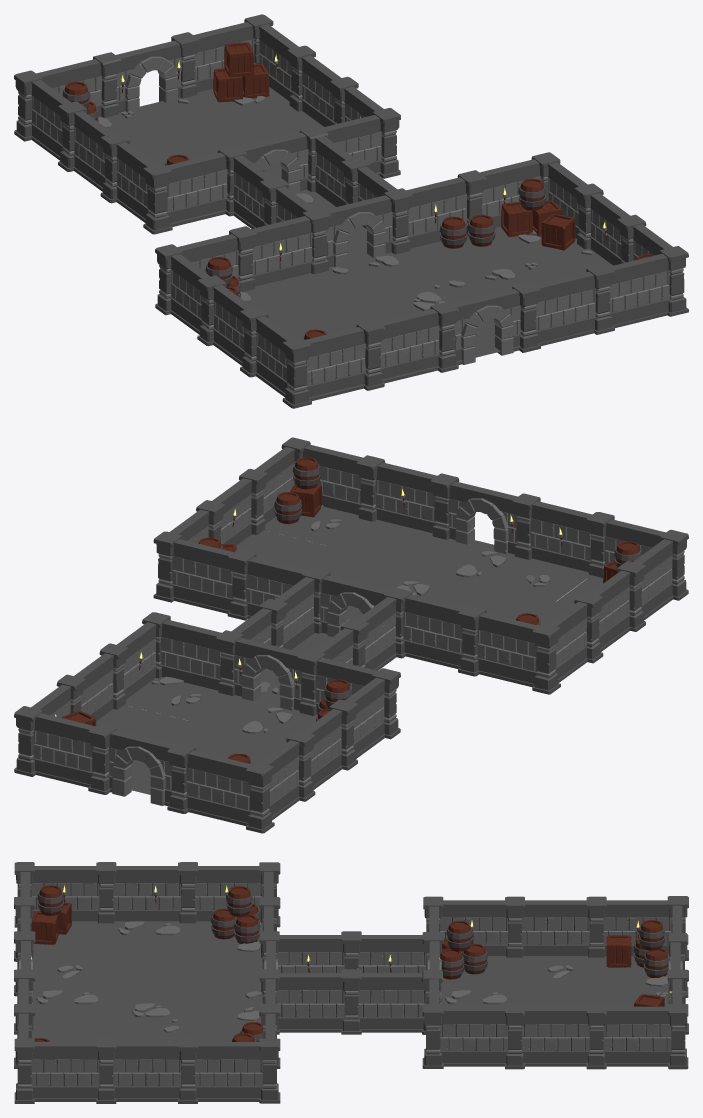
Rendered from Dungeon0.fbx.
3 views of the same model, one above another, from view 1: azimuth 30°, elevation 25°; view 2: azimuth 150°, elevation 25°; view 3: azimuth 270°, elevation 25° (orthographic). The views are drawn at different scales.
Parts seen in each view (by area): view 1: Pillar3.030, Pillar3.029, Pillar3.028, Pillar3.027, Pillar3.001, Pillar3.011, Kapı1, Pillar3.018, Pillar3.026, Pillar3.006, Kapı2.002, Kapı2.001 (+44 smaller); view 2: Pillar3.016, Pillar3.020, Pillar3.002, Pillar3.019, Pillar3.001, Pillar3.028, Kapı1, Pillar3.030, Kapı2, Pillar3.009, Pillar3.029, Kapı2.002 (+35 smaller); view 3: Pillar3.004, Pillar3.007, Pillar3.025, Pillar3.008, Pillar3.024, Pillar3.023, Pillar3.012, Pillar3.014, Pillar3.022, Pillar3.017, Pillar3.021, Pillar3.015 (+48 smaller).
Part boxes in pixels (x1=…): Pillar3.030: x1=512, y1=271, x2=596, y2=352; Pillar3.029: x1=586, y1=253, x2=670, y2=334; Pillar3.028: x1=378, y1=302, x2=458, y2=383; Pillar3.027: x1=305, y1=320, x2=384, y2=400; Pillar3.001: x1=229, y1=188, x2=507, y2=291; Pillar3.011: x1=166, y1=145, x2=246, y2=226; Kapı1: x1=93, y1=40, x2=182, y2=117; Pillar3.018: x1=406, y1=170, x2=486, y2=248; Pillar3.026: x1=255, y1=316, x2=311, y2=408; Pillar3.006: x1=116, y1=142, x2=172, y2=234; Kapı2.002: x1=452, y1=289, x2=521, y2=364; Kapı2.001: x1=324, y1=195, x2=393, y2=267; Pillar3.016: x1=186, y1=750, x2=274, y2=833; Pillar3.020: x1=477, y1=612, x2=560, y2=694; Pillar3.002: x1=33, y1=713, x2=116, y2=794; Pillar3.019: x1=153, y1=531, x2=233, y2=613; Pillar3.001: x1=402, y1=594, x2=486, y2=676; Pillar3.028: x1=512, y1=493, x2=592, y2=571; Kapı1: x1=108, y1=730, x2=196, y2=813; Pillar3.030: x1=375, y1=462, x2=459, y2=539; Kapı2: x1=215, y1=630, x2=302, y2=710; Pillar3.009: x1=142, y1=612, x2=221, y2=690; Pillar3.029: x1=303, y1=444, x2=385, y2=521; Kapı2.002: x1=448, y1=481, x2=517, y2=554; Pillar3.004: x1=603, y1=1004, x2=688, y2=1069; Pillar3.007: x1=522, y1=1004, x2=606, y2=1069; Pillar3.025: x1=14, y1=1038, x2=99, y2=1103; Pillar3.008: x1=440, y1=1004, x2=524, y2=1069; Pillar3.024: x1=96, y1=1038, x2=181, y2=1103; Pillar3.023: x1=178, y1=1038, x2=262, y2=1103; Pillar3.012: x1=341, y1=969, x2=425, y2=1034; Pillar3.014: x1=505, y1=896, x2=589, y2=957; Pillar3.022: x1=96, y1=862, x2=181, y2=923; Pillar3.017: x1=259, y1=969, x2=344, y2=1034; Pillar3.021: x1=62, y1=862, x2=262, y2=923; Pillar3.015: x1=586, y1=896, x2=671, y2=957.
Bounding box in the file's own units: 2145 × 306 × 3304.
